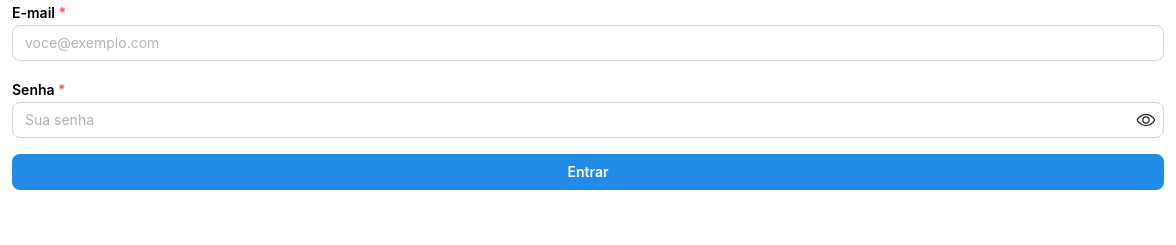
Scenario: LoginForm › exibe validação quando campos estão vazios
Step 1. Click the button "Entrar" → [588, 172], box [12,154,1164,190]
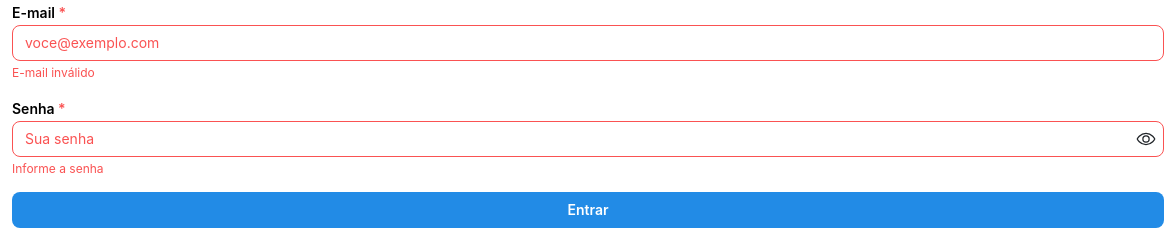
Now the text "E-mail inválido" is shown, box [12,65,95,80]
Now the text "Informe a senha" is shown, box [12,161,104,176]
